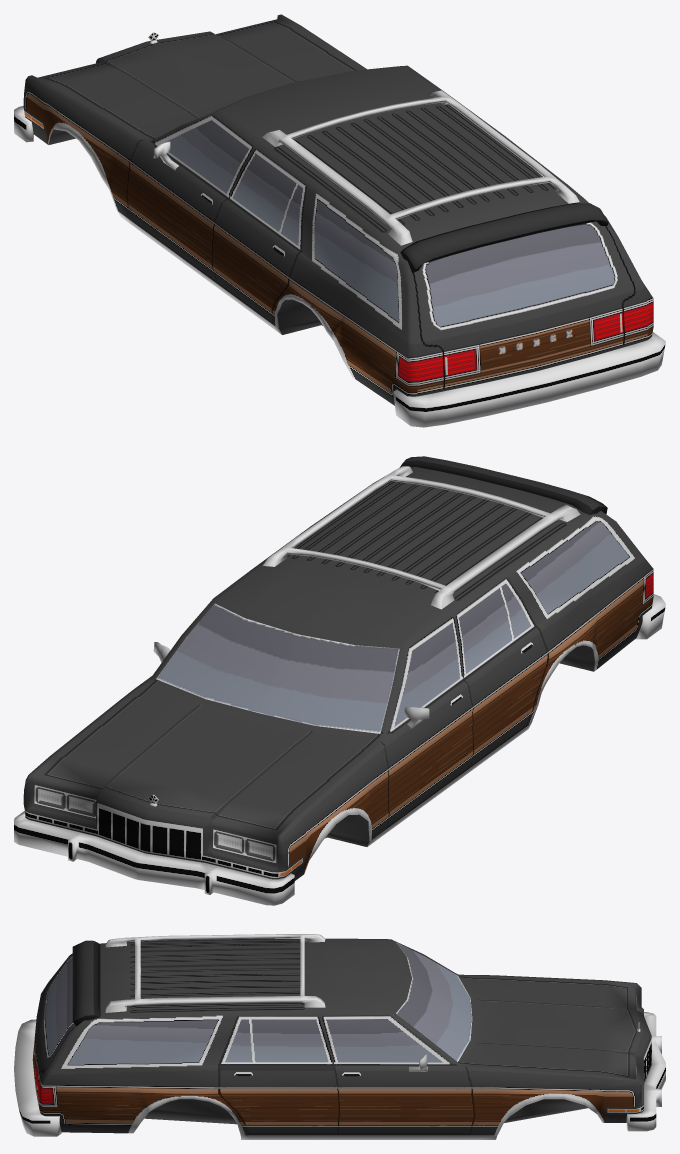
Rendered from 89Diplomatwagon.fbx.
3 renders of one model, top to bottom at view 1: azimuth 30°, elevation 25°; view 2: azimuth 150°, elevation 25°; view 3: azimuth 270°, elevation 25°, orthographic. The views are drawn at different scales.
Visible parts, largest first — view 1: 89diplomatwagon; view 2: 89diplomatwagon; view 3: 89diplomatwagon.
Boxes of the visible parts, x1,y1,x2,y2 form: 89diplomatwagon: (14,14,665,427); 89diplomatwagon: (14,456,665,905); 89diplomatwagon: (14,934,665,1139).
Bounding box in the file's own units: 2.07 × 1.18 × 5.36.
